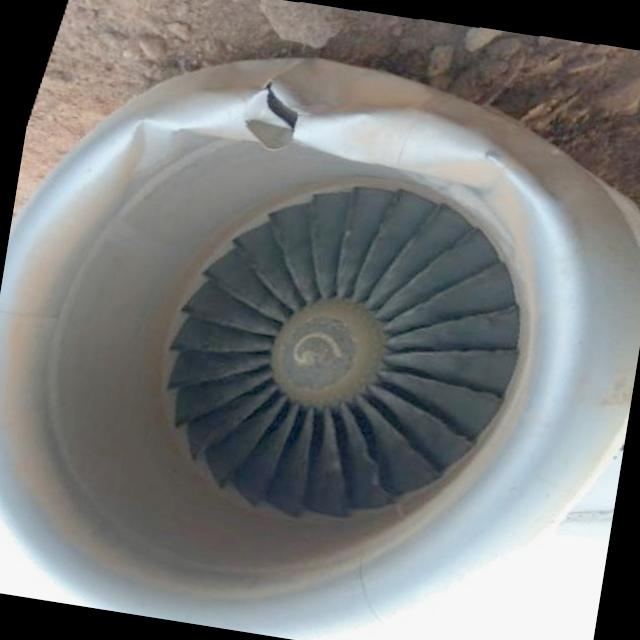crack: (256, 79, 304, 135)
dent: (294, 89, 496, 182), (116, 108, 184, 184)
